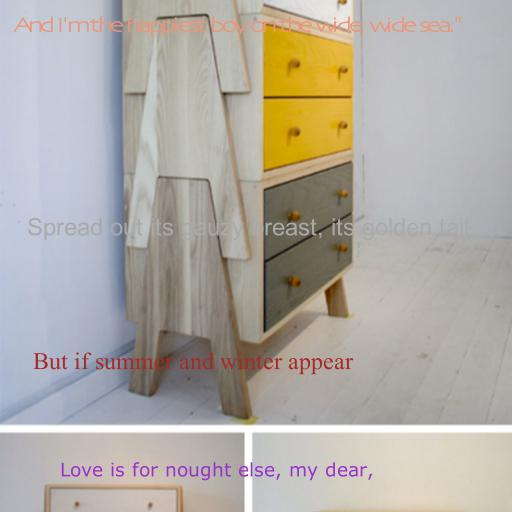Arial: (27, 217, 469, 241)
Skia: (14, 16, 462, 37)
Times New Roman: (33, 352, 353, 375)
Verdana: (60, 462, 374, 481)
